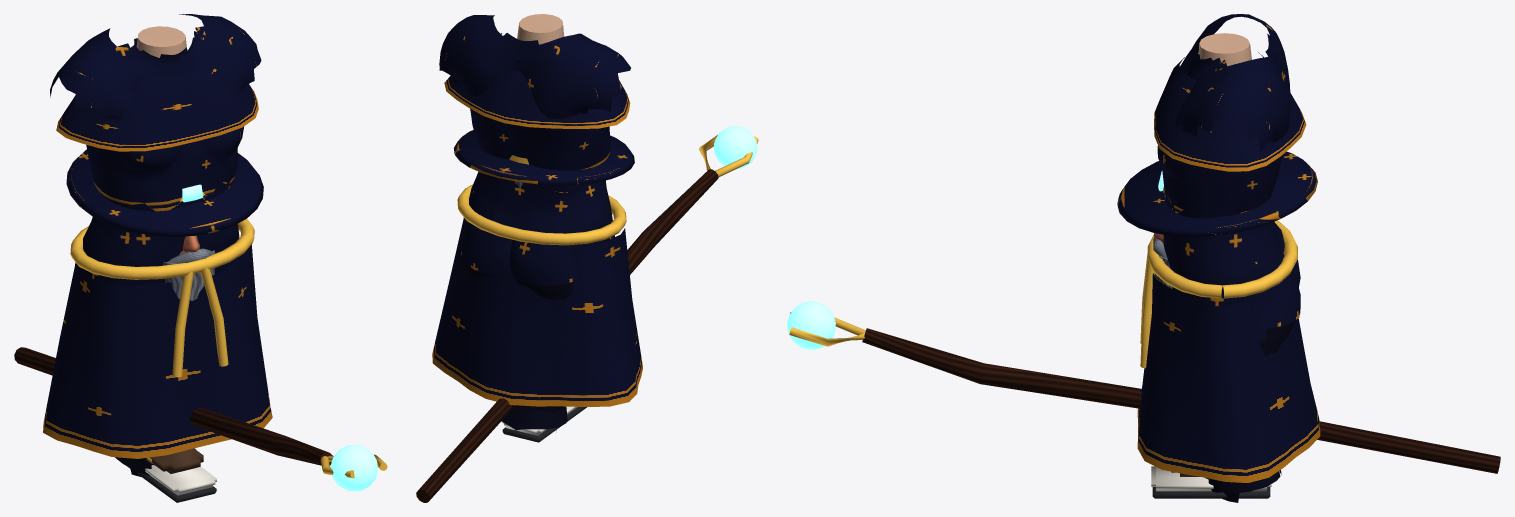
3 views of the same model, side by side, from view 1: azimuth 30°, elevation 25°; view 2: azimuth 150°, elevation 25°; view 3: azimuth 270°, elevation 25° (orthographic). The views are drawn at different scales.
Parts seen in each view (by area): view 1: Torso, Head, ForearmR, ShinL; view 2: Torso, ForearmR, Head, ThighR, ShinL, ThighL; view 3: Torso, ForearmR, Head, ShinL.
Part boxes in pixels (bbox=[...]): Torso: bbox=[43, 14, 272, 458]; Head: bbox=[66, 38, 263, 300]; ForearmR: bbox=[14, 347, 387, 491]; ShinL: bbox=[127, 448, 216, 502]; Torso: bbox=[432, 14, 642, 406]; ForearmR: bbox=[416, 126, 758, 502]; Head: bbox=[454, 59, 634, 187]; ThighR: bbox=[489, 242, 567, 430]; ShinL: bbox=[502, 406, 586, 442]; ThighL: bbox=[501, 278, 564, 430]; Torso: bbox=[1137, 14, 1320, 482]; ForearmR: bbox=[787, 301, 1500, 473]; Head: bbox=[1117, 63, 1317, 288]; ShinL: bbox=[1151, 466, 1271, 498].
Size of the model in its own units: 0.5373 by 1.06 by 1.52.
Materials: 13 (6 with a texture image).
